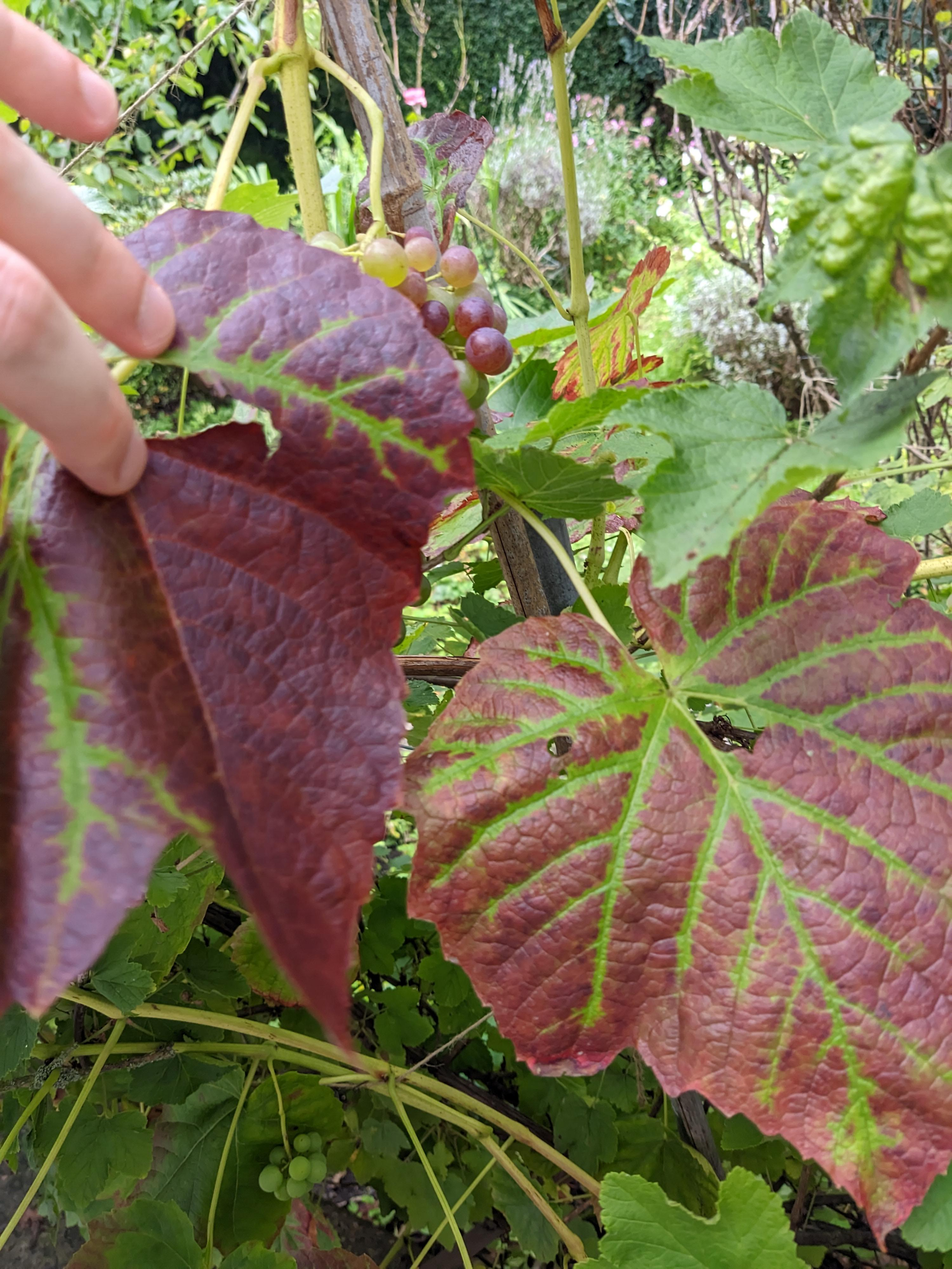Grape Unripe: (275, 224, 511, 407), (254, 1133, 336, 1201)
